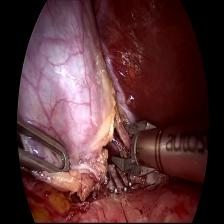Clipper: (112, 105, 161, 178)
Grasper: (15, 119, 74, 184)
